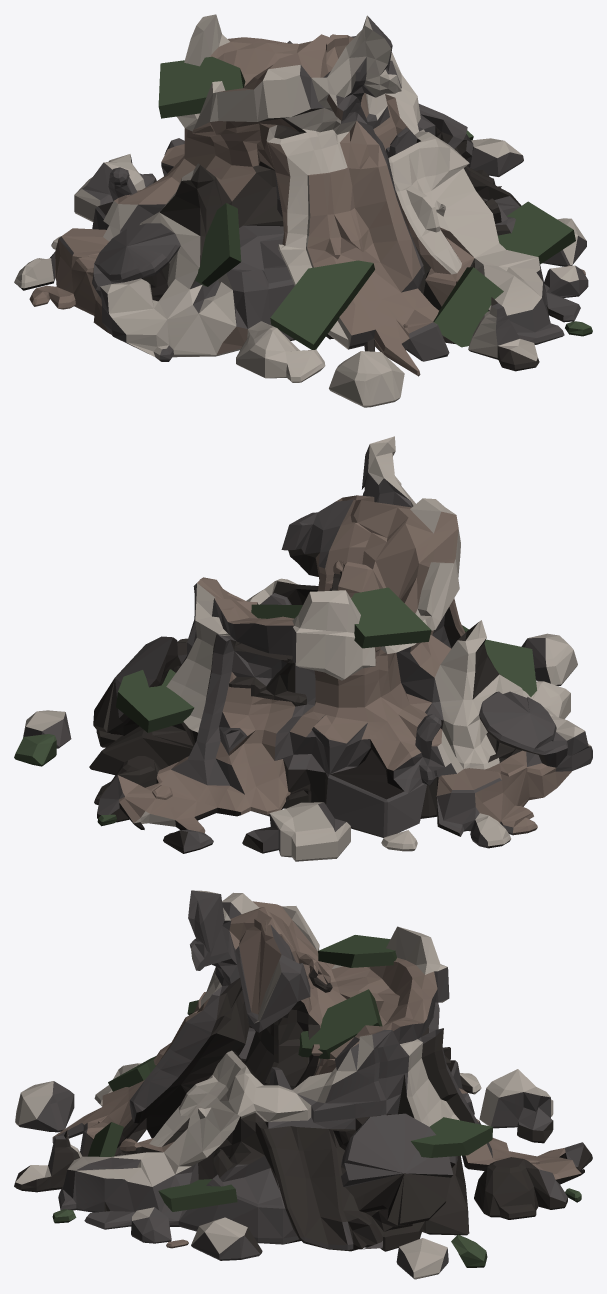
File: tower_rubble.glb
The picture shows the model from 3 angles, top to bottom: view 1: azimuth 30°, elevation 25°; view 2: azimuth 150°, elevation 25°; view 3: azimuth 270°, elevation 25°; orthographic projection. The views are drawn at different scales.
Visible parts, largest first — view 1: model; view 2: model; view 3: model.
Part boxes in pixels (box(x1,y1,x2,y2)): model: box(14, 14, 592, 407); model: box(14, 436, 592, 861); model: box(14, 890, 592, 1279).
Bounding box in the file's own units: 1.83 × 0.9871 × 1.9.
